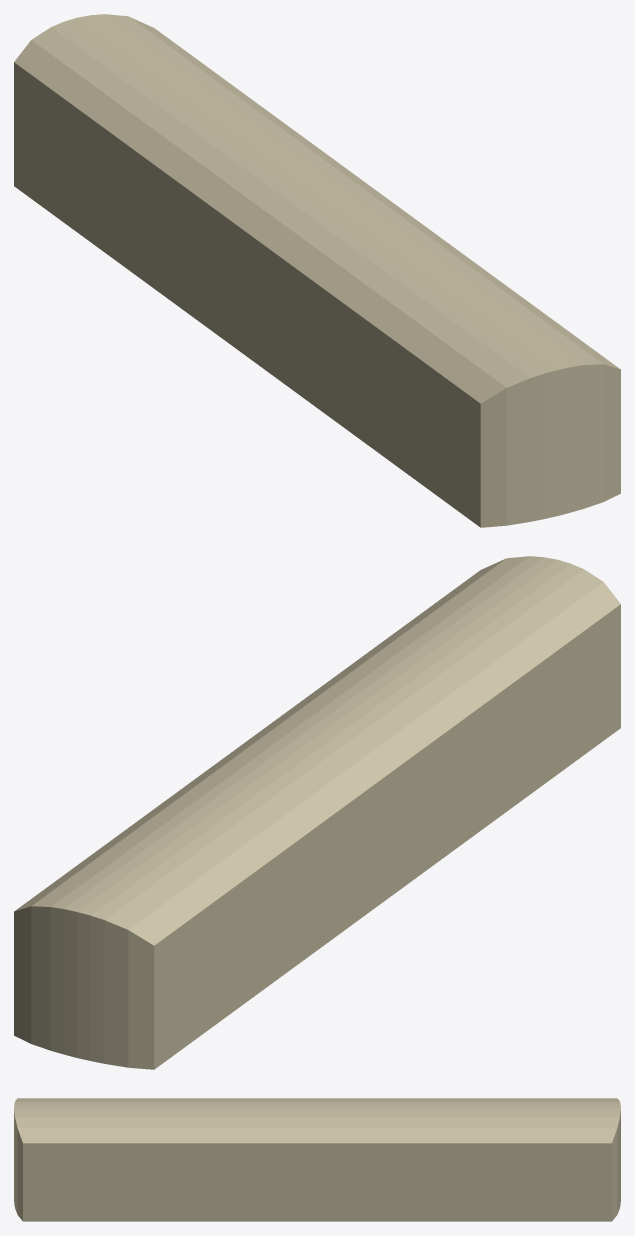
Rendered from bow-ended-template.dae.
The picture shows the model from 3 angles, top to bottom: view 1: azimuth 30°, elevation 25°; view 2: azimuth 150°, elevation 25°; view 3: azimuth 270°, elevation 25°; orthographic projection. The views are drawn at different scales.
Parts seen in each view (by area): view 1: Cube_010; view 2: Cube_010; view 3: Cube_010.
Boxes of the visible parts, x1,y1,x2,y2 form: Cube_010: [14, 14, 620, 527]; Cube_010: [14, 556, 620, 1069]; Cube_010: [14, 1098, 620, 1221].
Size of the model in its own units: 1.78 by 10.59 by 1.77.
